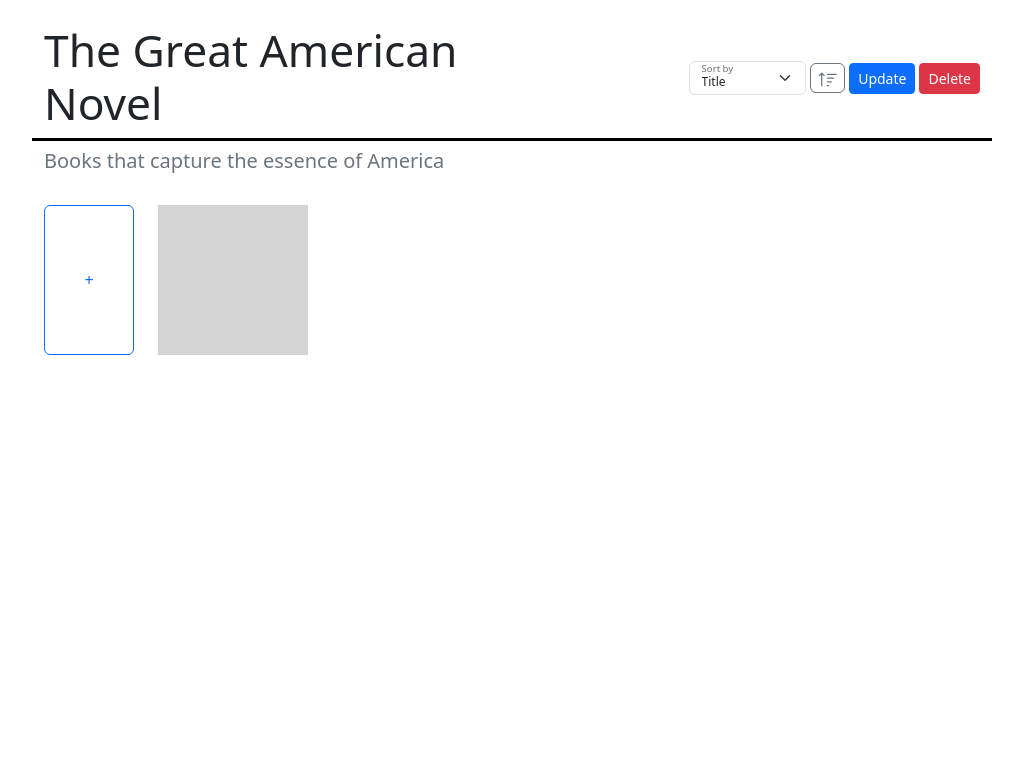
Scenario: cancels deleting a bookshelf with x button
Click the button "Delete": (950, 78) [919,62,980,94]
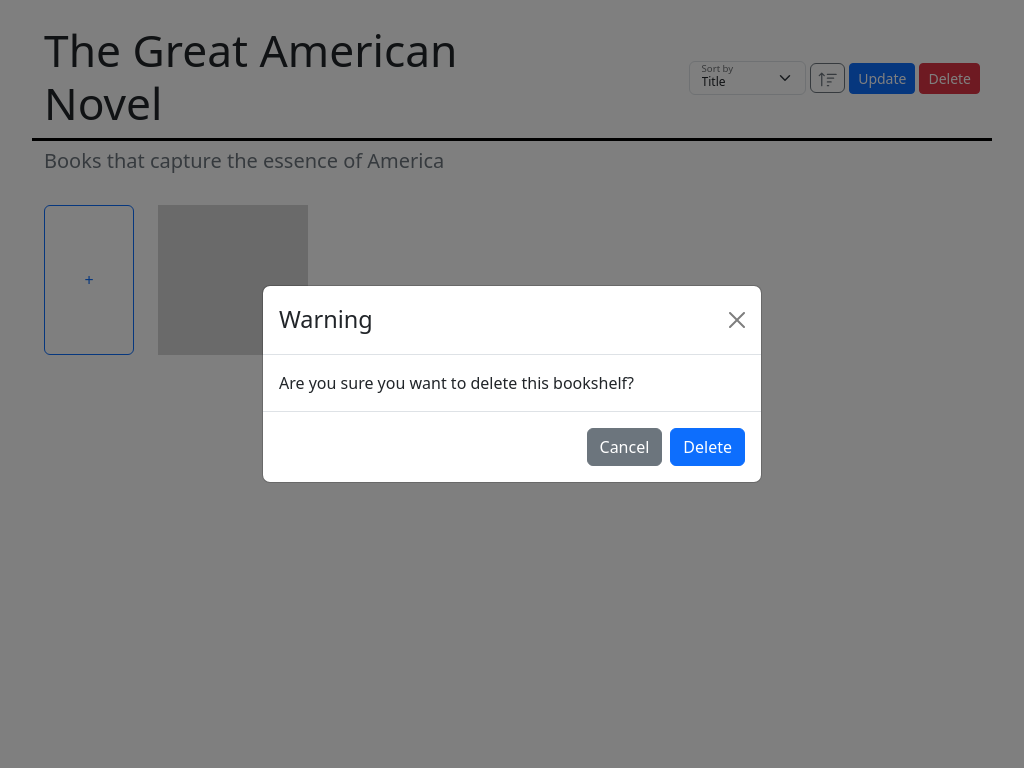
Now the dialog is shown, box [262,285,762,483]
Click the `X` button in the modal
Click the button named "Close": (737, 320) [721,304,753,336]
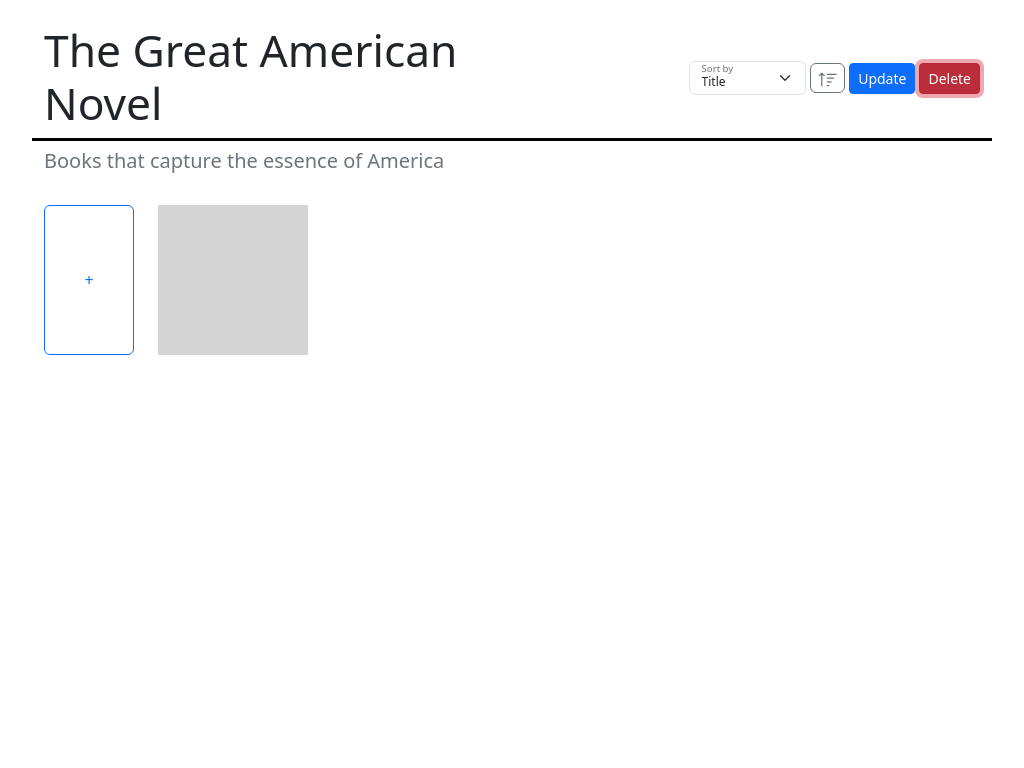
Now the dialog is gone
